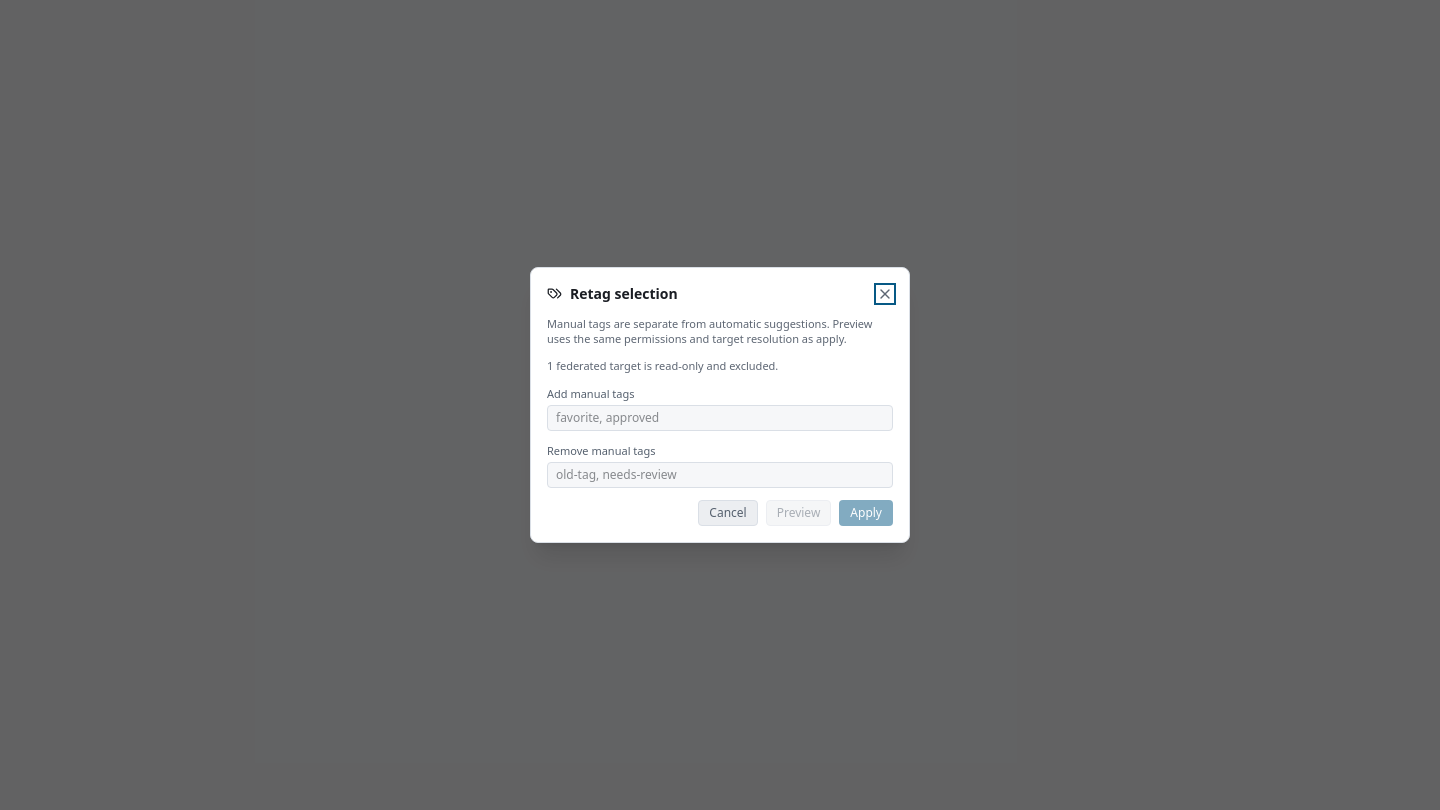
Test: batch retag previews, applies, and reports excluded targets
expect the text "1 federated target is read-only and excluded." is shown: met, box [547,358,778,373]
Step 1. Type "Approved, approved" into the field labelled "Add manual tags" → (720, 418), box [547,405,893,431]
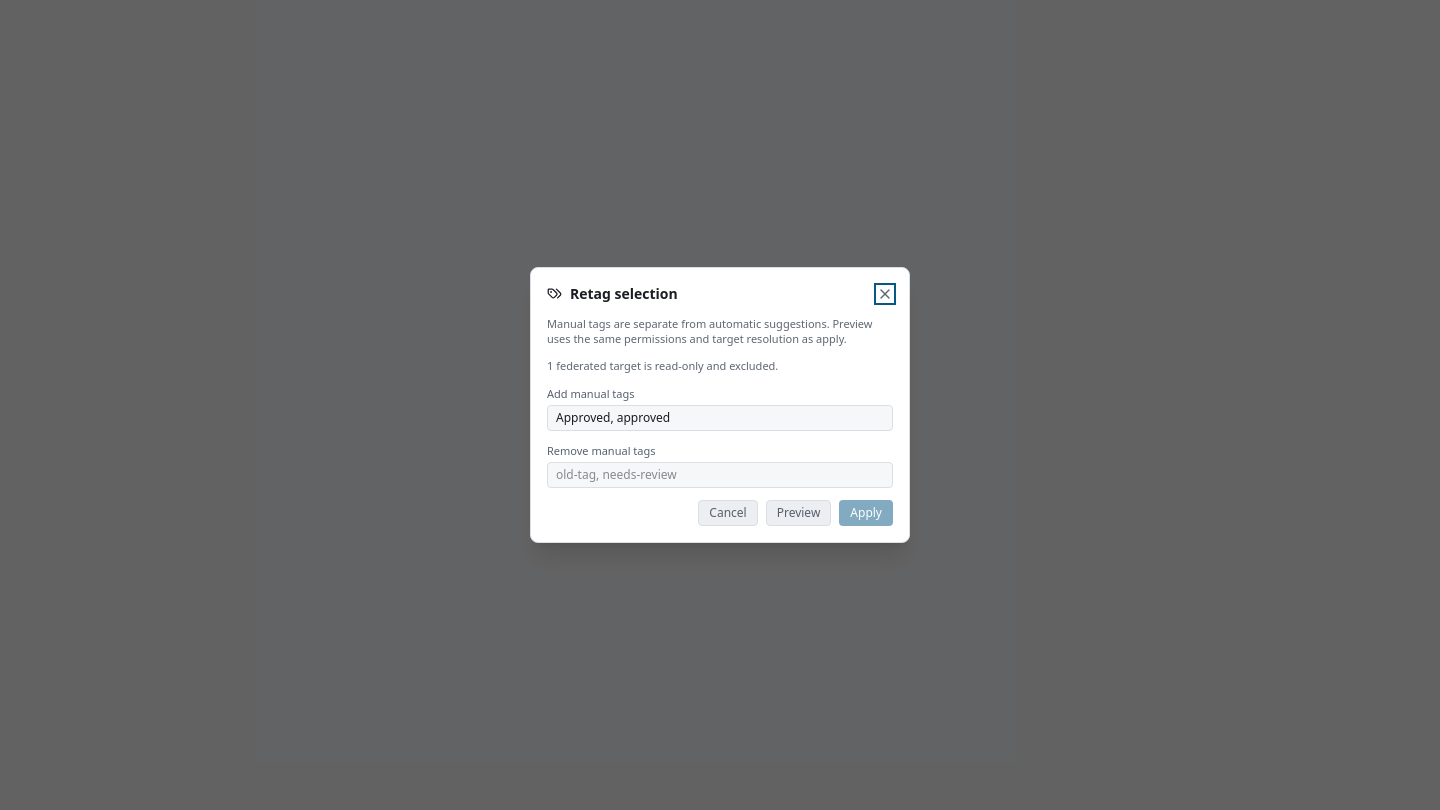
Step 2. Click the button "Preview" → (799, 514), box [766,500,831,526]
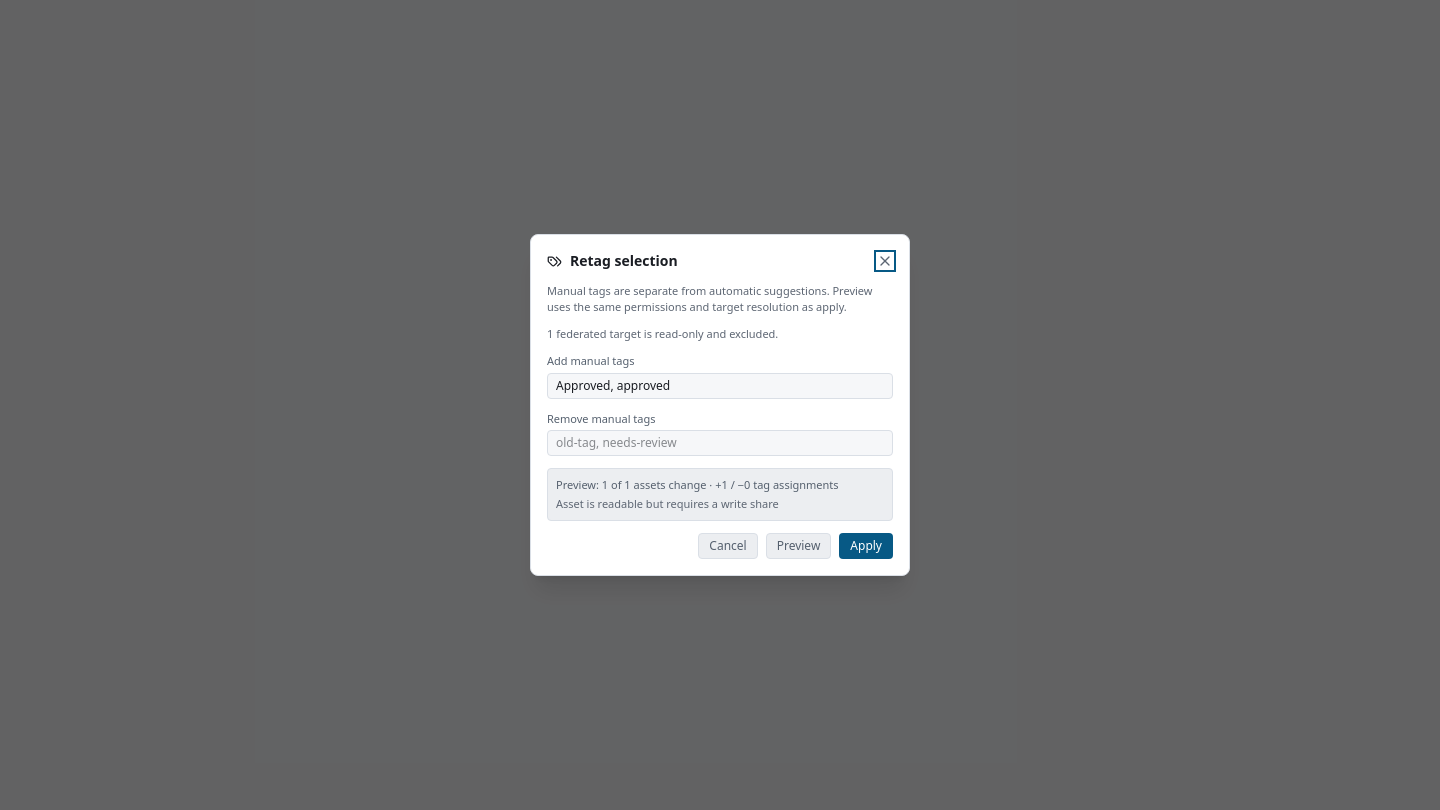
expect the text "Preview: 1 of 1 assets change · +1 / −0 tag assignments" is shown: met, box [556,477,884,492]
expect the text "Asset is readable but requires a write share" is shown: met, box [556,496,779,512]
Step 3. Click the button "Apply" → (866, 546), box [839,533,893,559]
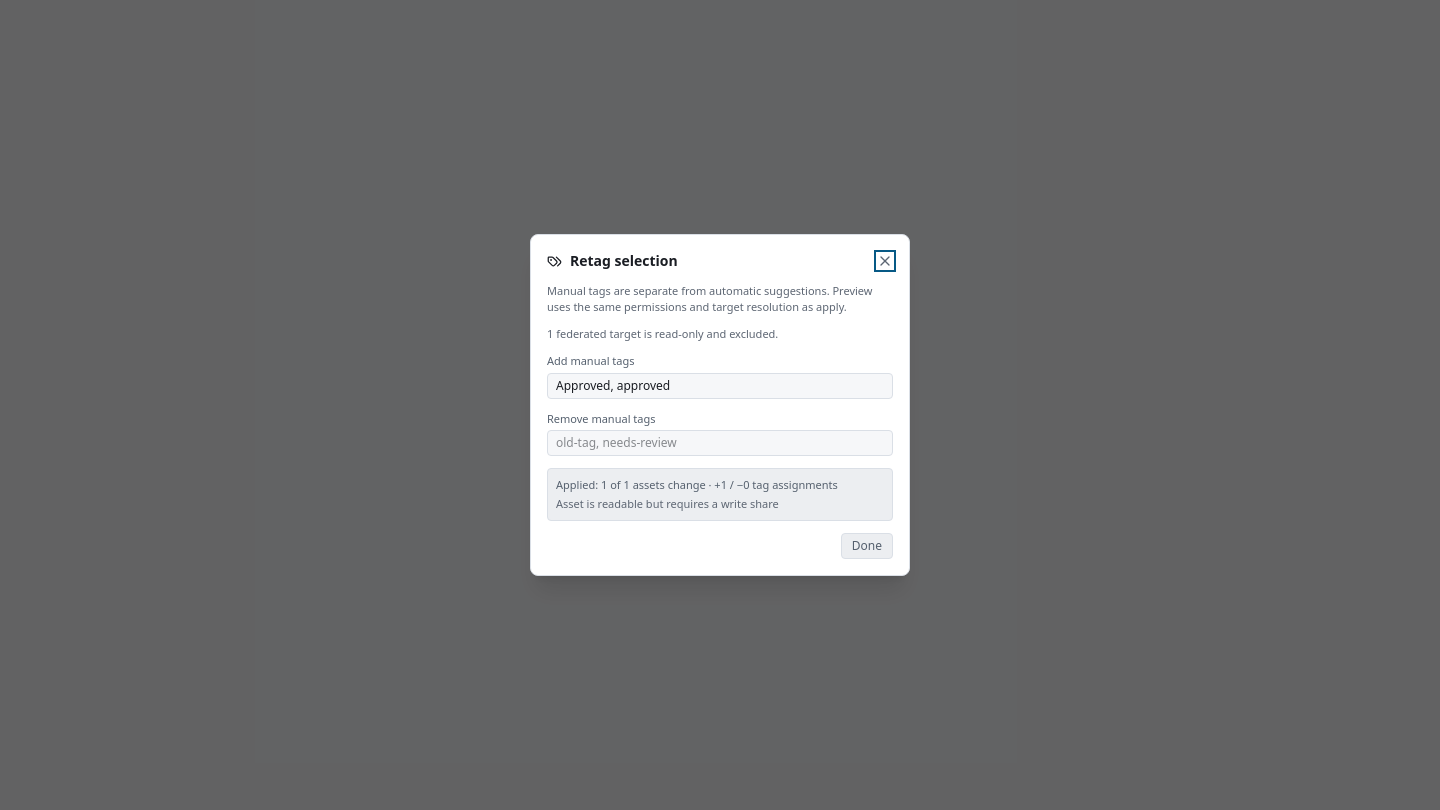
expect the text "Applied: 1 of 1 assets change · +1 / −0 tag assignments" is shown: met, box [556,477,884,492]
